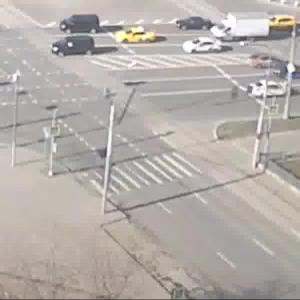car: (210, 12, 270, 45), (246, 78, 296, 103), (47, 35, 96, 59), (114, 25, 158, 46), (264, 7, 297, 32), (62, 15, 102, 35), (183, 36, 223, 56), (175, 13, 212, 33), (258, 50, 282, 71)
